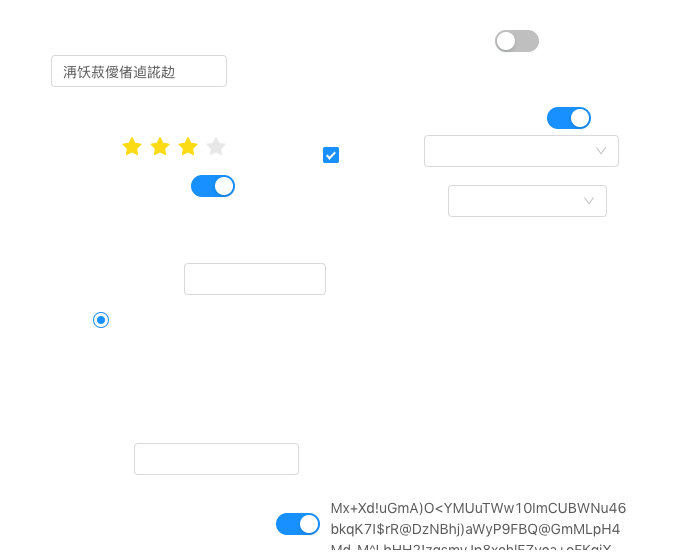Checkbox: (323, 144, 339, 165)
Input: (51, 55, 227, 87), (134, 443, 299, 475), (184, 263, 326, 295)
Radio: (93, 309, 109, 329)
Rate: (122, 130, 242, 162)
Select: (424, 135, 619, 167), (448, 185, 607, 217)
Switch: (276, 512, 320, 536), (547, 106, 591, 130), (191, 174, 235, 198), (495, 29, 539, 53)
Text: (331, 497, 630, 550)
